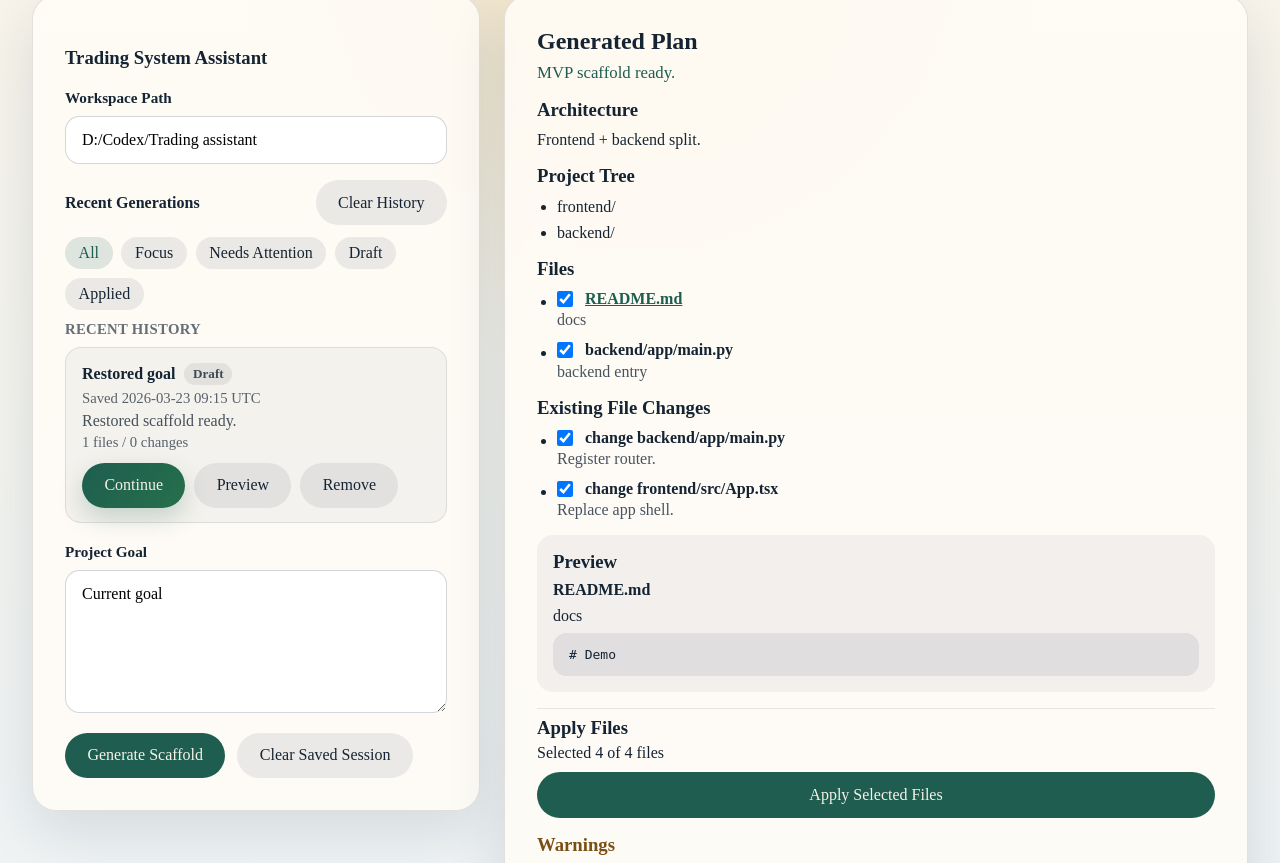
Test case: App › keeps the restored generation preview expanded after a successful continue flow
The width and height of the screenshot is (1280, 863).
Click the button with aria-label "continue restored goal".
click(134, 485)  # box [82,462,186,508]
(page scrolled)
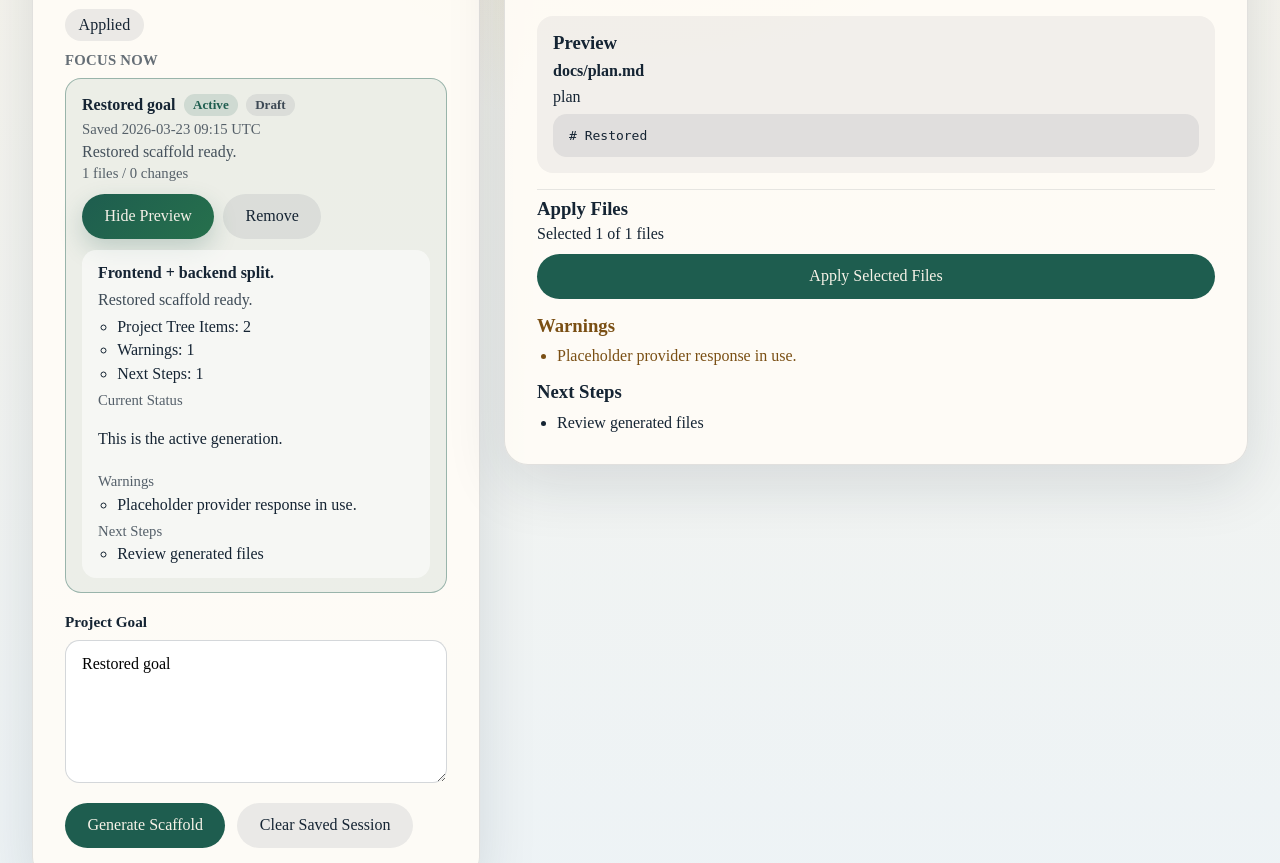
Check: the element named "preview restored goal" is shown, box [82,250,430,578]
